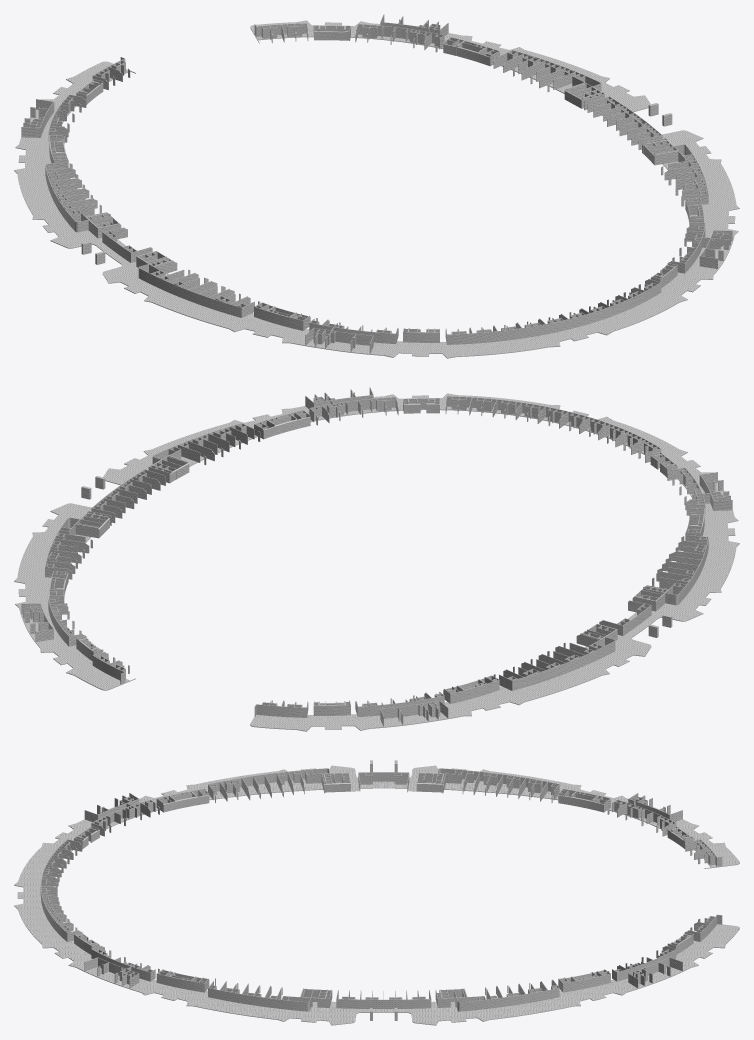
The picture shows the model from 3 angles, top to bottom: view 1: azimuth 30°, elevation 25°; view 2: azimuth 150°, elevation 25°; view 3: azimuth 270°, elevation 25°; orthographic projection. The views are drawn at different scales.
Visible parts, largest first — view 1: 楼板 大莲花五层楼板_270 [638617].1; view 2: 楼板 大莲花五层楼板_270 [638617].1; view 3: 楼板 大莲花五层楼板_270 [638617].1.
Part boxes in pixels (<box>): 楼板 大莲花五层楼板_270 [638617].1: <box>14,14,739,358</box>; 楼板 大莲花五层楼板_270 [638617].1: <box>14,387,739,731</box>; 楼板 大莲花五层楼板_270 [638617].1: <box>14,760,739,1025</box>.
Bounding box in the file's own units: 9889 × 177 × 11690.
1 material, 1 textured.
